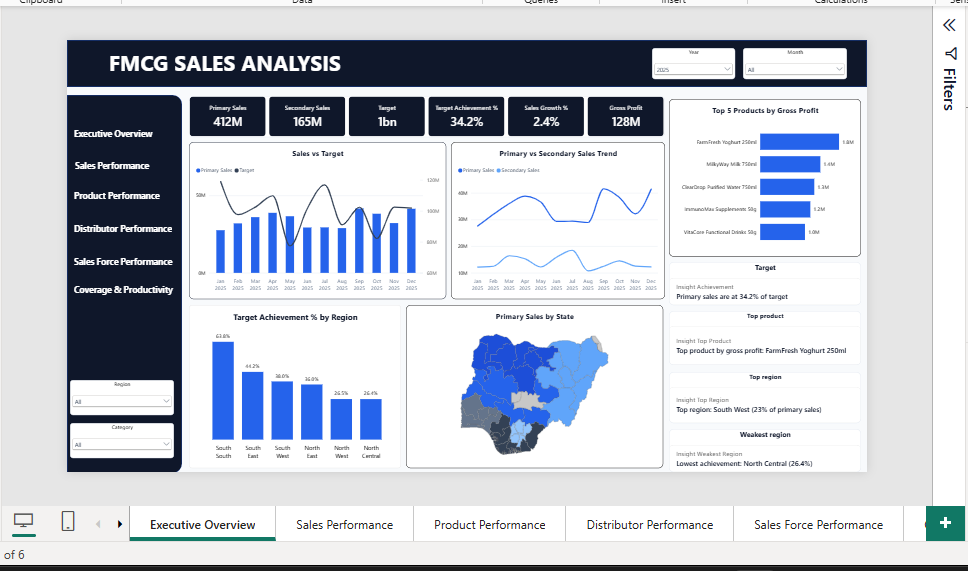

The page's visual inventory and layout, read from the dashboard file:
{"tool":"powerbi","page":{"name":"Executive Overview","canvas":[2000,1082],"ordinal":0},"visuals":[{"type":"shape","box":[0,0,2000,117.5],"z":0},{"type":"textbox","box":[105,20,655,80],"z":1000},{"type":"shape","box":[0,137.5,287.5,945],"z":2000},{"type":"textbox","box":[17.5,220,215,45],"z":4000},{"type":"textbox","box":[17.5,375,255,35],"z":5000},{"type":"textbox","box":[17.5,457.5,255,37.5],"z":6000},{"type":"textbox","box":[17.5,540,255,37.5],"z":7000},{"type":"textbox","box":[17.5,610,255,37.5],"z":8000},{"type":"cardVisual","fields":{"Data":["_measures.Primary Sales","_measures.Secondary Sales","_measures.Target","_measures.Target Achievement %","_measures.Sales Growth %","_measures.Gross Profit"]},"box":[305,140,1190,102.5],"z":11000},{"type":"lineClusteredColumnComboChart","title":" Sales vs Target","fields":{"Category":["DimDate.Month Year"],"Y":["_measures.Primary Sales"],"Y2":["_measures.Target"]},"box":[305,255,642.5,392.5],"z":12000},{"type":"clusteredBarChart","title":"Top 5 Products by Gross Profit","fields":{"Category":["ProductMaster.Product_Name"],"Y":["_measures.Gross Profit"]},"box":[1505,147.5,480,394],"z":13000},{"type":"shapeMap","title":"Primary Sales by State","fields":{"Category":["DistributorMaster.State"],"Series":["DistributorMaster.Region"],"Value":["_measures.Primary Sales"]},"box":[847.5,662.5,642.5,407.5],"z":14000},{"type":"lineChart","title":"Primary vs Secondary Sales Trend","fields":{"Category":["DimDate.Month Year"],"Y":["_measures.Primary Sales","_measures.Secondary Sales"]},"box":[960,255,535,392.5],"z":16000},{"type":"columnChart","title":"Target Achievement % by Region","fields":{"Category":["DistributorMaster.Region"],"Y":["_measures.Target Achievement %"]},"box":[305,662.5,530,407.5],"z":17000},{"type":"slicer","title":"Year","fields":{"Values":["DimDate.Year"]},"box":[1462.5,20,207.5,77.5],"z":40300},{"type":"slicer","title":"Month","fields":{"Values":["DimDate.Month"]},"box":[1690,20,260,77.5],"z":40400},{"type":"slicer","title":"Region","fields":{"Values":["DistributorMaster.Region"]},"box":[7.5,850,260,87.5],"z":40500},{"type":"slicer","title":"Category","fields":{"Values":["ProductMaster.Category"]},"box":[7.5,957.5,260,87.5],"z":40600},{"type":"cardVisual","title":"Target","fields":{"Data":["_measures.Insight Achievement"]},"box":[1505,555,480,107.5],"z":40700},{"type":"cardVisual","title":"Top region","fields":{"Data":["_measures.Insight Top Region"]},"box":[1505,830,480,127.5],"z":40800},{"type":"cardVisual","title":"Weakest region","fields":{"Data":["_measures.Insight Weakest Region"]},"box":[1505,972.5,480,107.5],"z":40900},{"type":"cardVisual","title":"Top product","fields":{"Data":["_measures.Insight Top Product"]},"box":[1505,677.5,480,135],"z":41000},{"type":"textbox","box":[20,300,250,45],"z":41001}]}

Visuals, with their boxes on the page's 2000x1082 design canvas (x1, y1, x2, y2). These are canvas units, not pixel positions in the 968x571 screenshot, which may show the page scaled, cropped or inside an application window:
shape: l=0, t=0, r=2000, b=118
textbox: l=105, t=20, r=760, b=100
shape: l=0, t=138, r=288, b=1082
textbox: l=18, t=220, r=232, b=265
textbox: l=18, t=375, r=272, b=410
textbox: l=18, t=458, r=272, b=495
textbox: l=18, t=540, r=272, b=578
textbox: l=18, t=610, r=272, b=648
cardVisual - _measures.Primary Sales x _measures.Secondary Sales: l=305, t=140, r=1495, b=242
" Sales vs Target" lineClusteredColumnComboChart: l=305, t=255, r=948, b=648
"Top 5 Products by Gross Profit" clusteredBarChart: l=1505, t=148, r=1985, b=542
"Primary Sales by State" shapeMap: l=848, t=662, r=1490, b=1070
"Primary vs Secondary Sales Trend" lineChart: l=960, t=255, r=1495, b=648
"Target Achievement % by Region" columnChart: l=305, t=662, r=835, b=1070
"Year" slicer: l=1462, t=20, r=1670, b=98
"Month" slicer: l=1690, t=20, r=1950, b=98
"Region" slicer: l=8, t=850, r=268, b=938
"Category" slicer: l=8, t=958, r=268, b=1045
"Target" cardVisual: l=1505, t=555, r=1985, b=662
"Top region" cardVisual: l=1505, t=830, r=1985, b=958
"Weakest region" cardVisual: l=1505, t=972, r=1985, b=1080
"Top product" cardVisual: l=1505, t=678, r=1985, b=812
textbox: l=20, t=300, r=270, b=345
